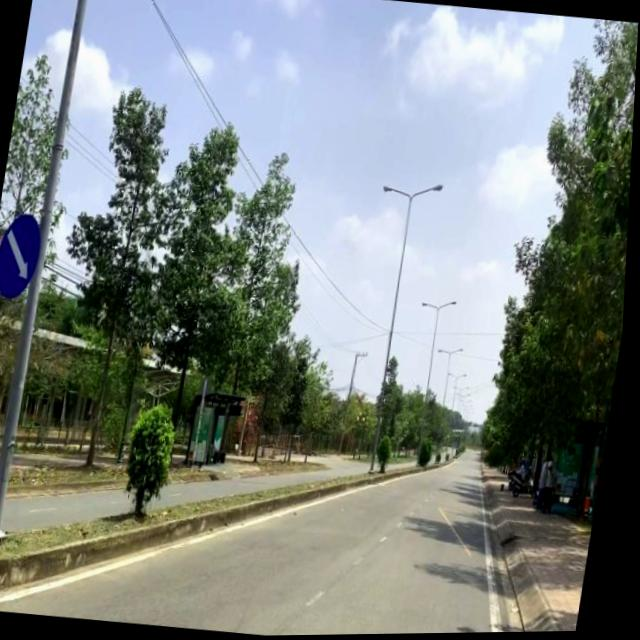Vong chuong ngai vat sang phai: (0, 209, 49, 303)
